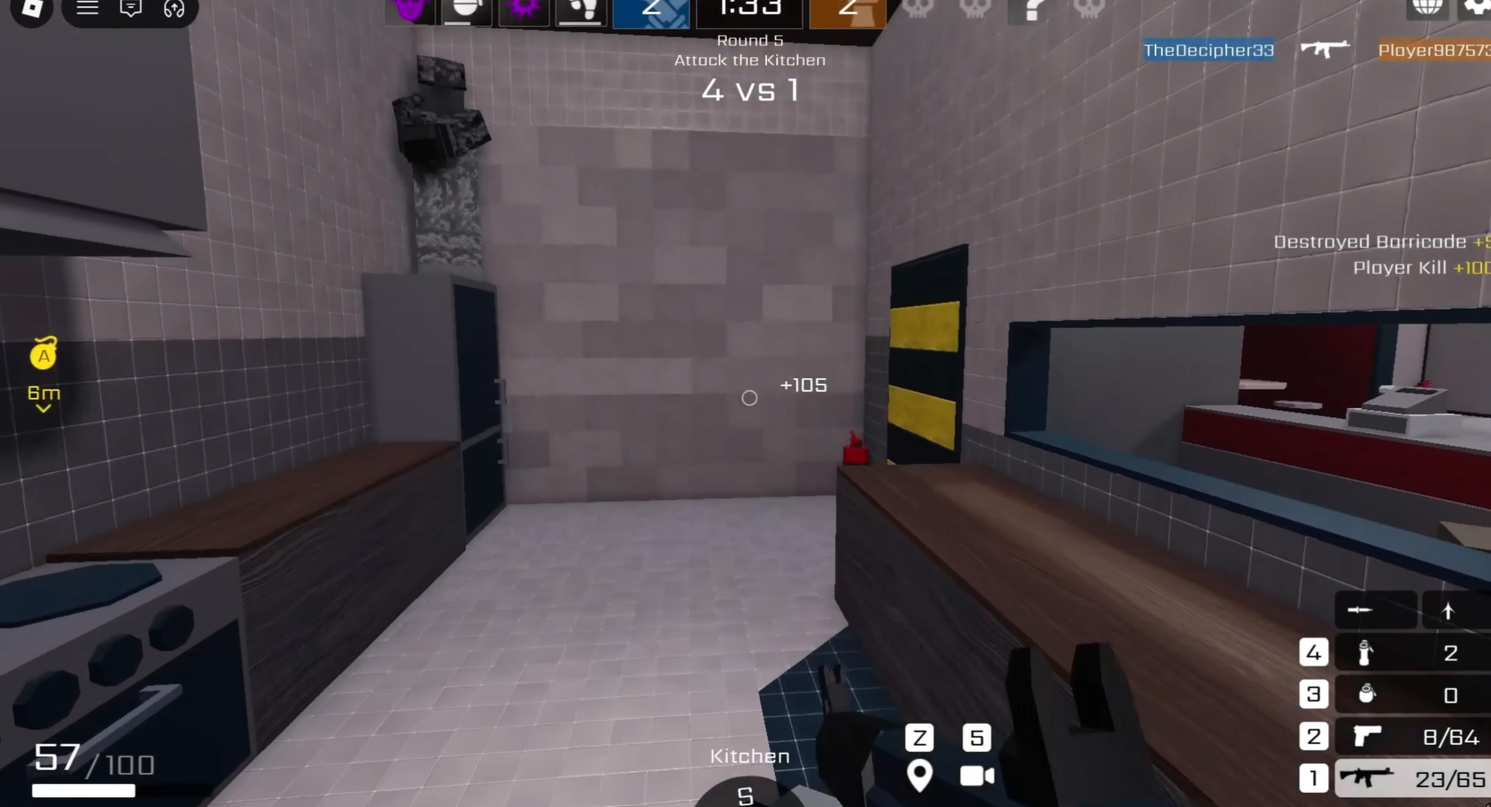enemy: (387, 43, 504, 283)
